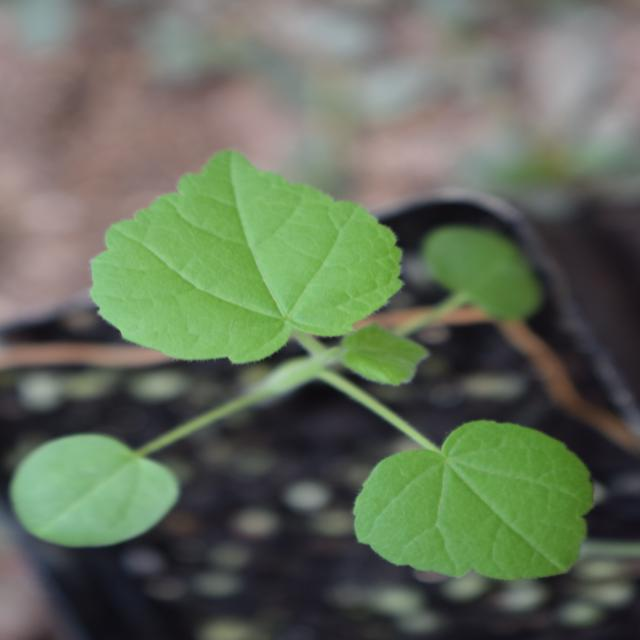abutilon theophrasti: (33, 45, 511, 571)
